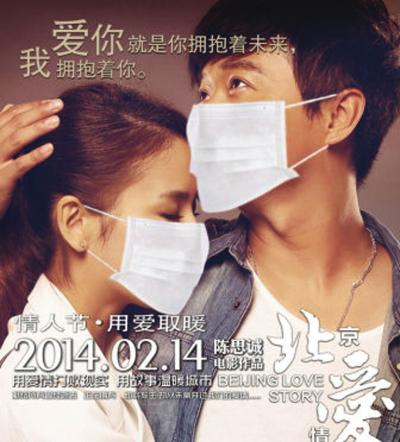OK: (188, 53, 331, 196), (76, 169, 212, 305)
